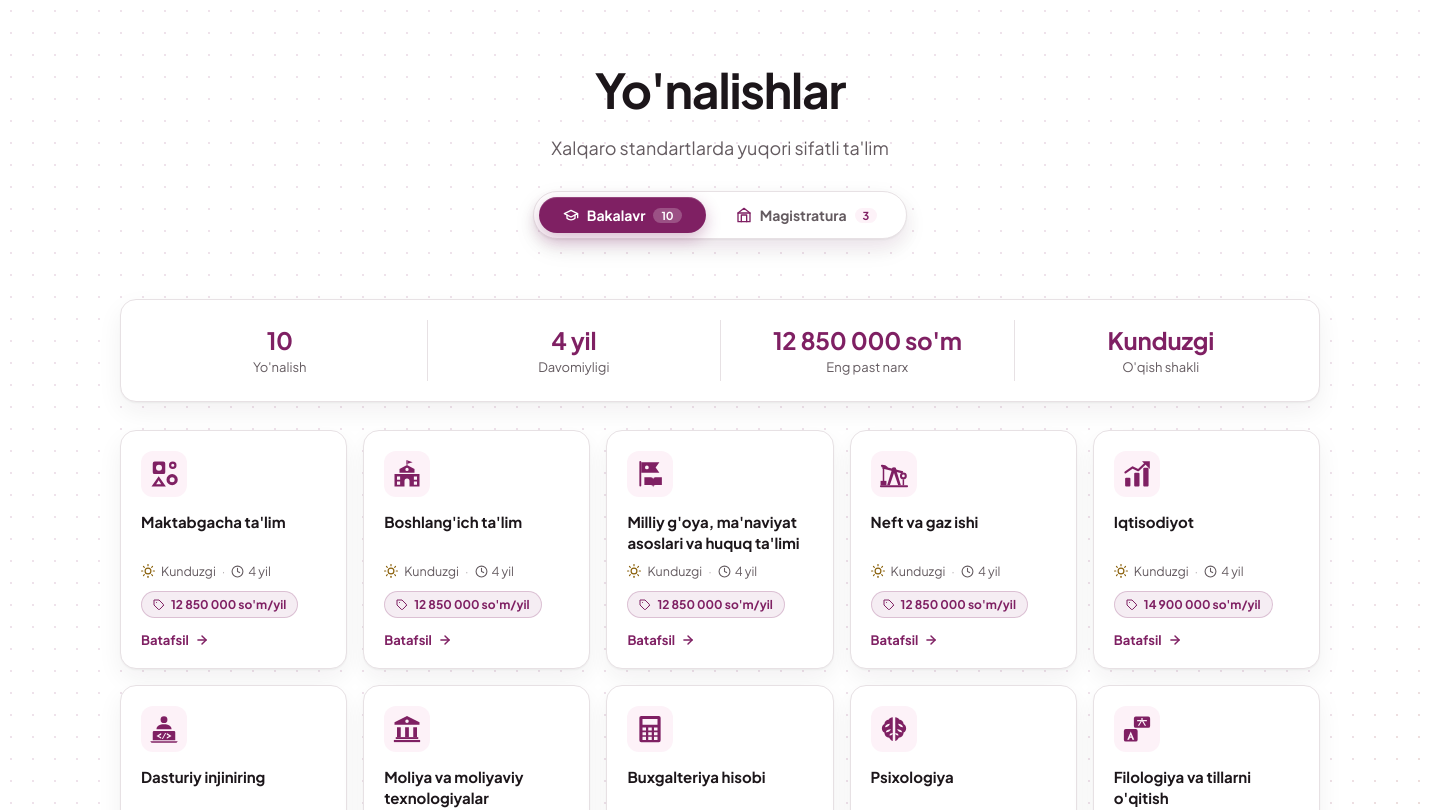
Test: Faculty (public) › kartani sichqoncha bilan bosish tegishli ma'lumotlar bilan modalni ochadi
Click the heading "Maktabgacha ta'lim": point(213, 522) [141,512,286,531]
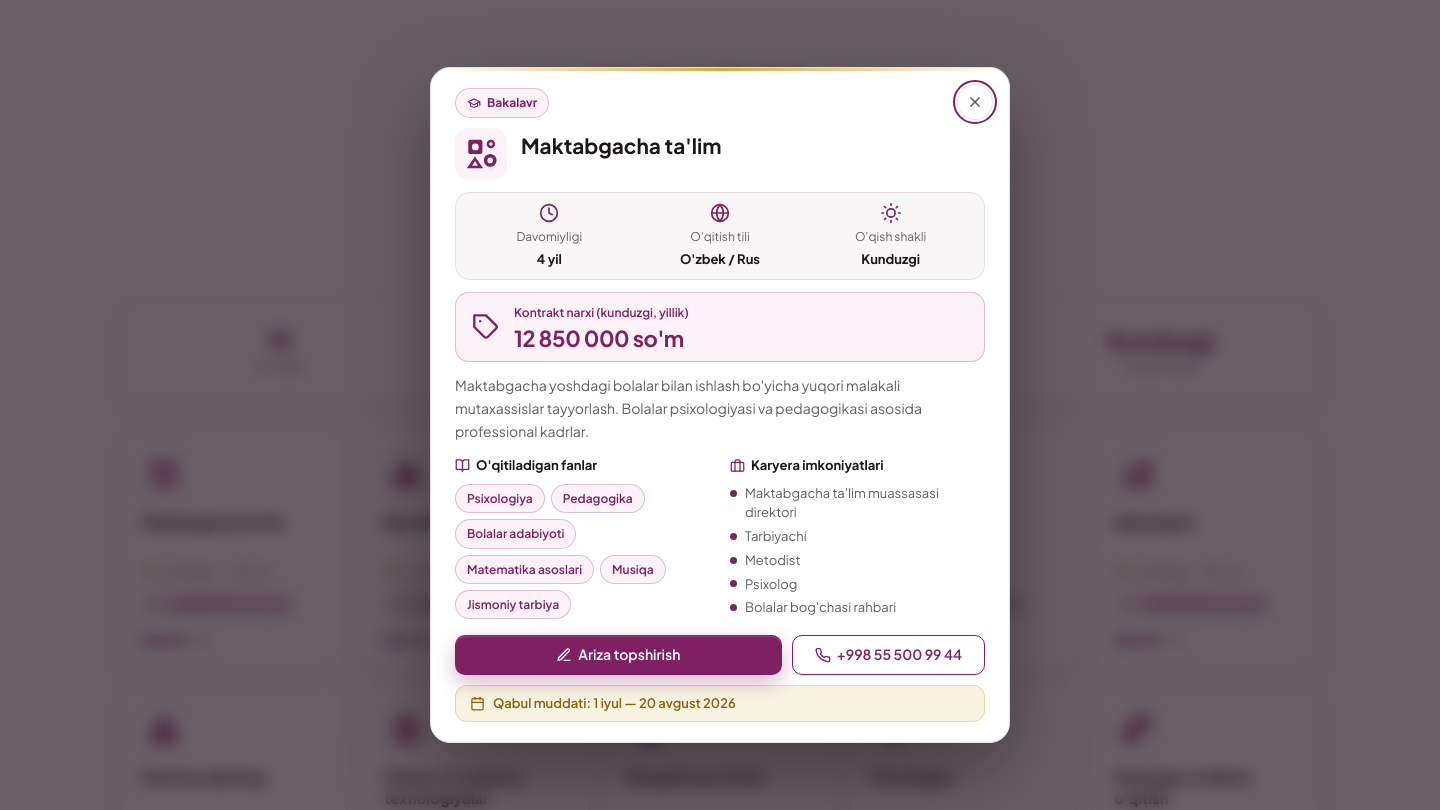
Check: the heading "Maktabgacha ta'lim" is shown, box [521,128,721,158]
Check: the text "12 850 000 so'm" is shown, box [514,325,689,351]
Check: the text "Bakalavr" is shown, box [455,88,549,118]
